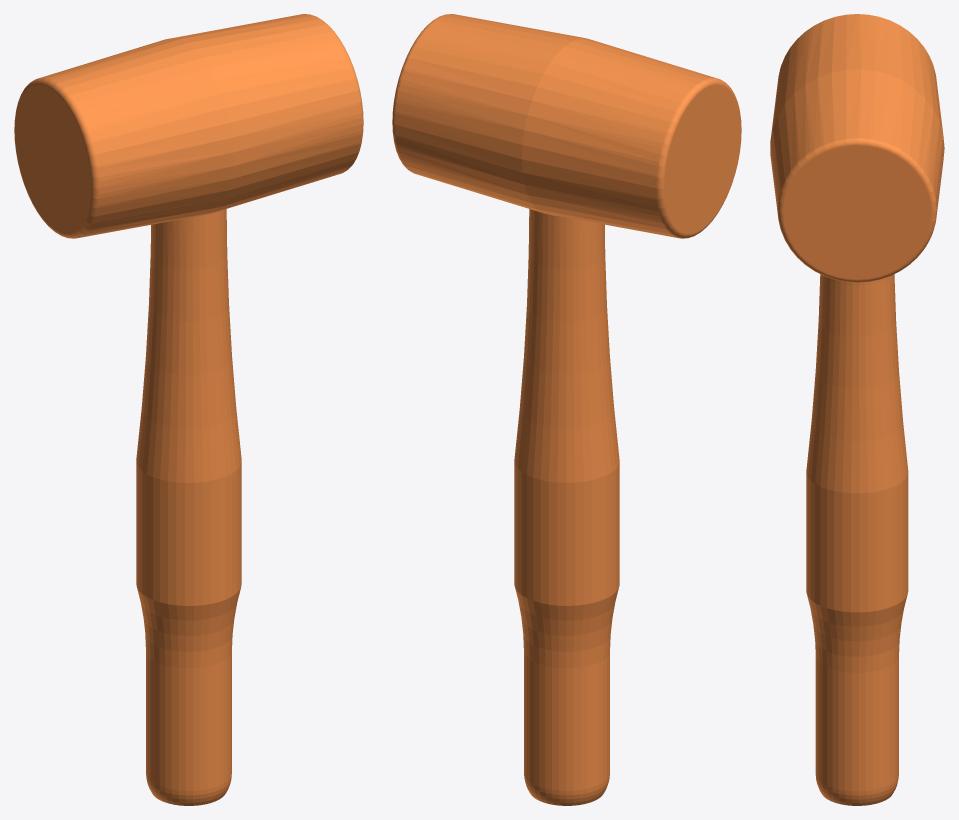
The model's file is RubberMallet.fbx.
3 views of the same model, side by side, from view 1: azimuth 30°, elevation 25°; view 2: azimuth 150°, elevation 25°; view 3: azimuth 270°, elevation 25° (orthographic). The views are drawn at different scales.
Parts seen in each view (by area): view 1: RubberMallet; view 2: RubberMallet; view 3: RubberMallet.
Part boxes in pixels (x1,y1,x2,y2): RubberMallet: [14, 14, 363, 805]; RubberMallet: [392, 14, 741, 805]; RubberMallet: [770, 14, 944, 805].
Size of the model in its own units: 7586 by 13200 by 34649.
